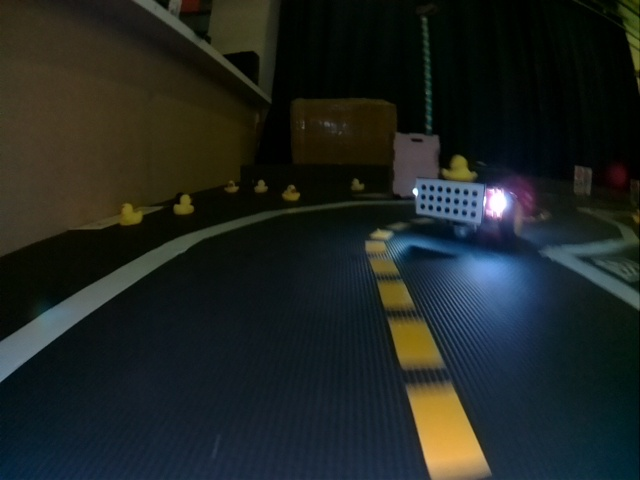Duckie: (443, 155, 476, 181), (119, 204, 144, 224), (174, 195, 195, 214), (281, 184, 301, 203), (225, 182, 239, 195), (350, 180, 364, 192)
Duckiebot: (416, 177, 535, 238)
